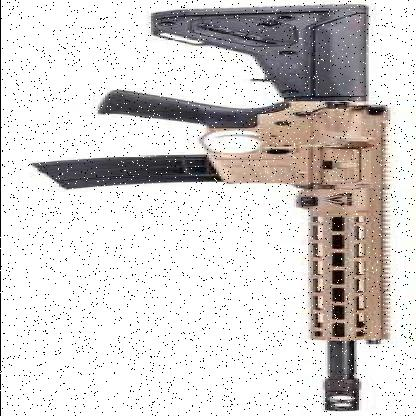rifle: (2, 0, 401, 407)
